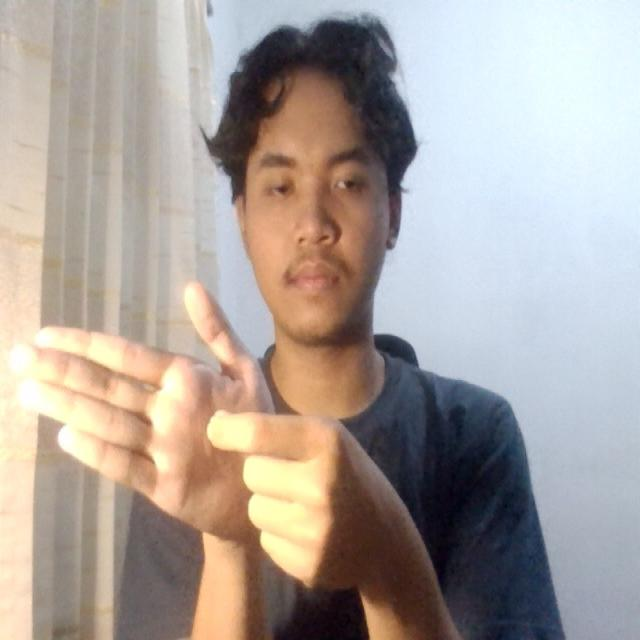L: (0, 263, 373, 585)
